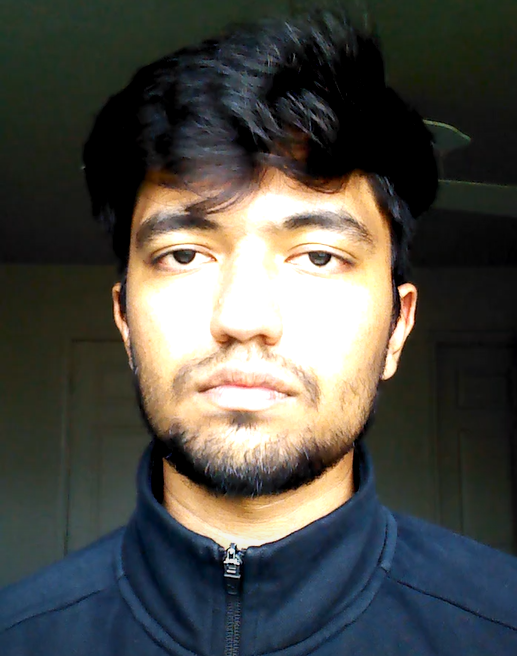Half Asleep: (130, 212, 376, 300)
